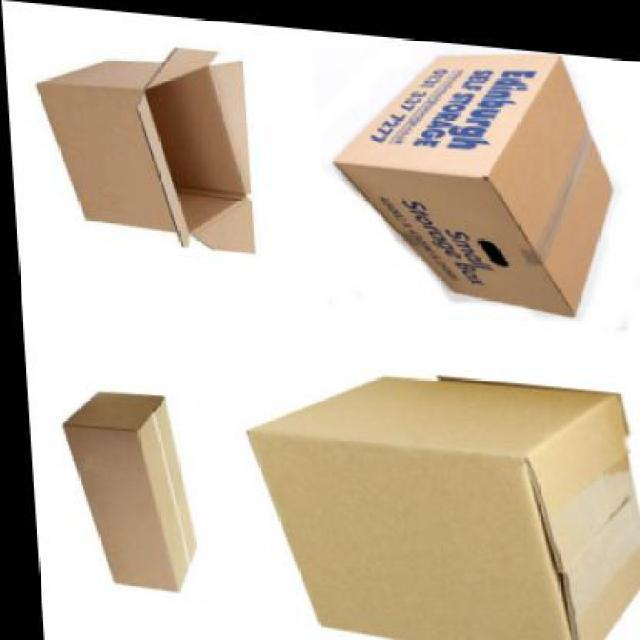box: (240, 354, 638, 638), (329, 28, 616, 304), (37, 49, 240, 233), (57, 386, 190, 589)
